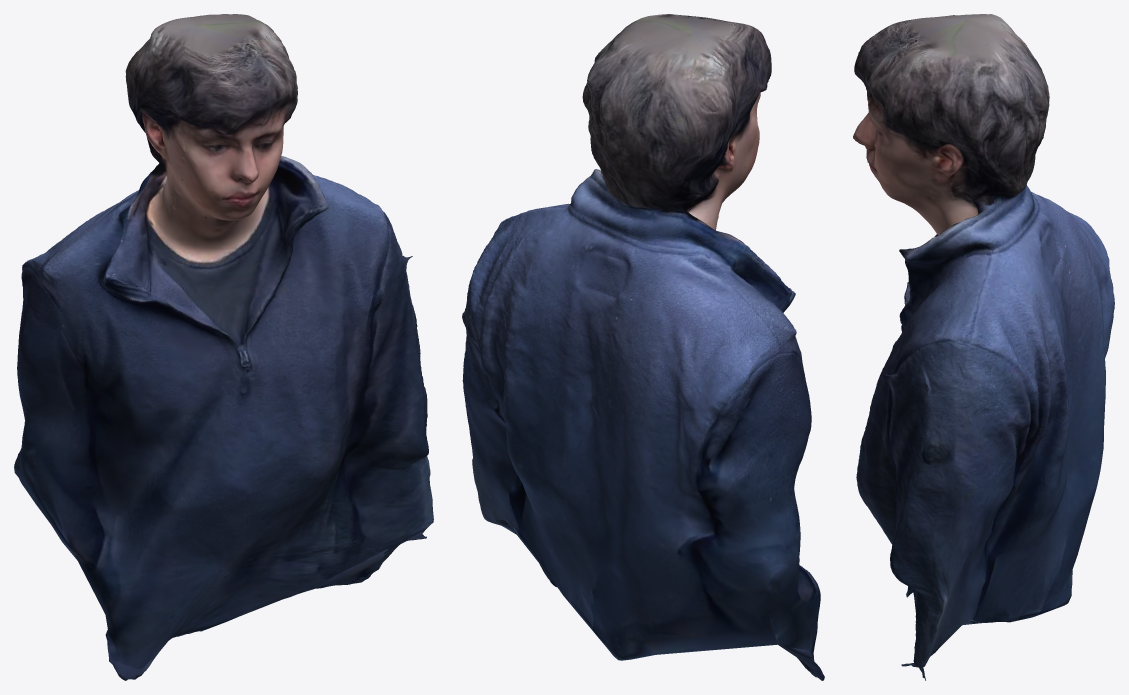
File: body.glb
The picture shows the model from 3 angles, left to right: view 1: azimuth 30°, elevation 25°; view 2: azimuth 150°, elevation 25°; view 3: azimuth 270°, elevation 25°; orthographic projection. The views are drawn at different scales.
Visible parts, largest first — view 1: 3DModel; view 2: 3DModel; view 3: 3DModel.
Part boxes in pixels (box(x1,y1,x2,y2)): 3DModel: box(14, 14, 433, 680); 3DModel: box(462, 14, 824, 680); 3DModel: box(853, 14, 1114, 680).
Bounding box in the file's own units: 0.2234 × 0.3603 × 0.1374.
1 material, 1 textured.
